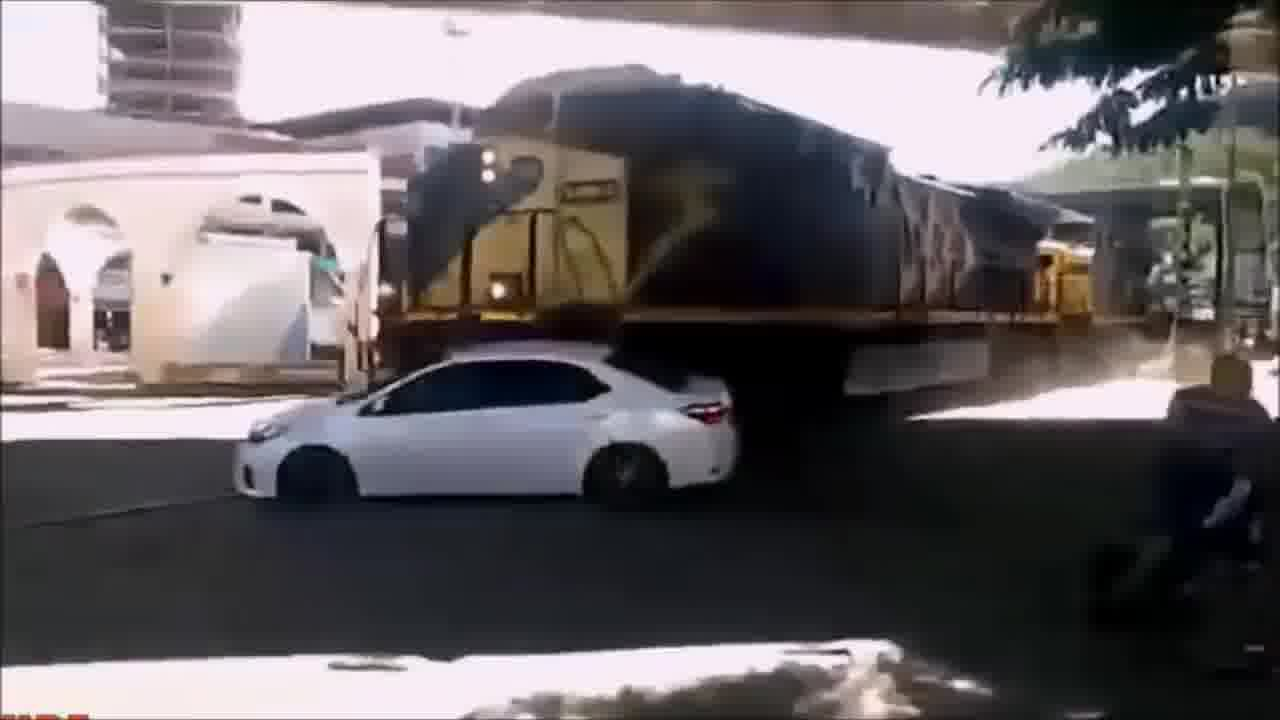crossing railway track: (150, 249, 794, 547)
